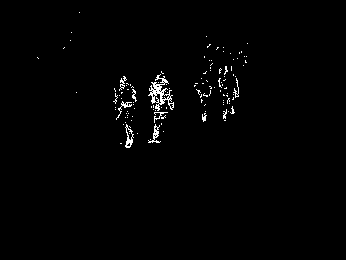person: (148, 70, 174, 144), (113, 75, 136, 150), (217, 64, 241, 123), (194, 64, 212, 123)
